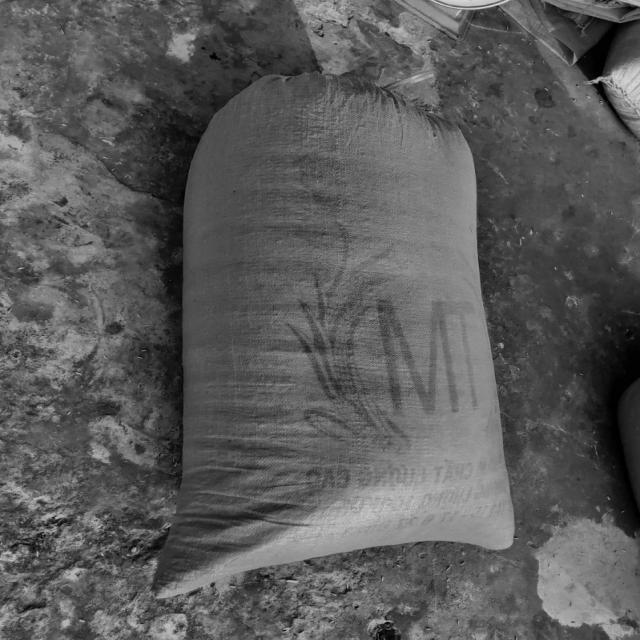gunny_bag: (153, 73, 514, 599)
